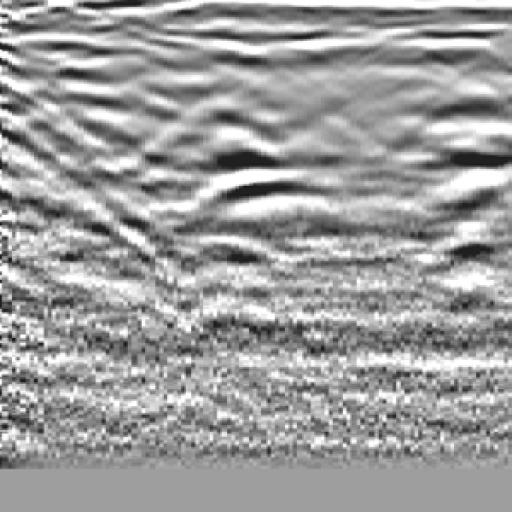metalic: (183, 34, 350, 302)
nonmetalic: (1, 38, 108, 280)
